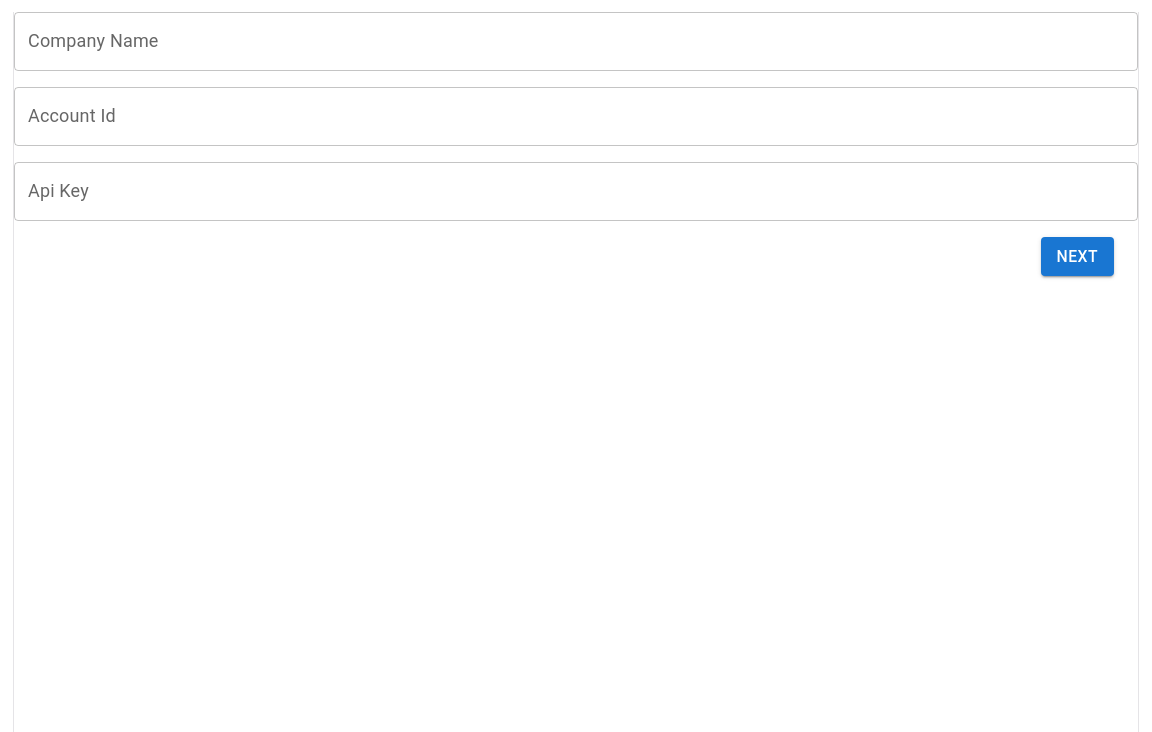
Test: DetailsStep › shows an error toast and does not advance when Next is clicked with empty fields
Click the button "Next".
click(1077, 256)  # box [1041,237,1114,276]
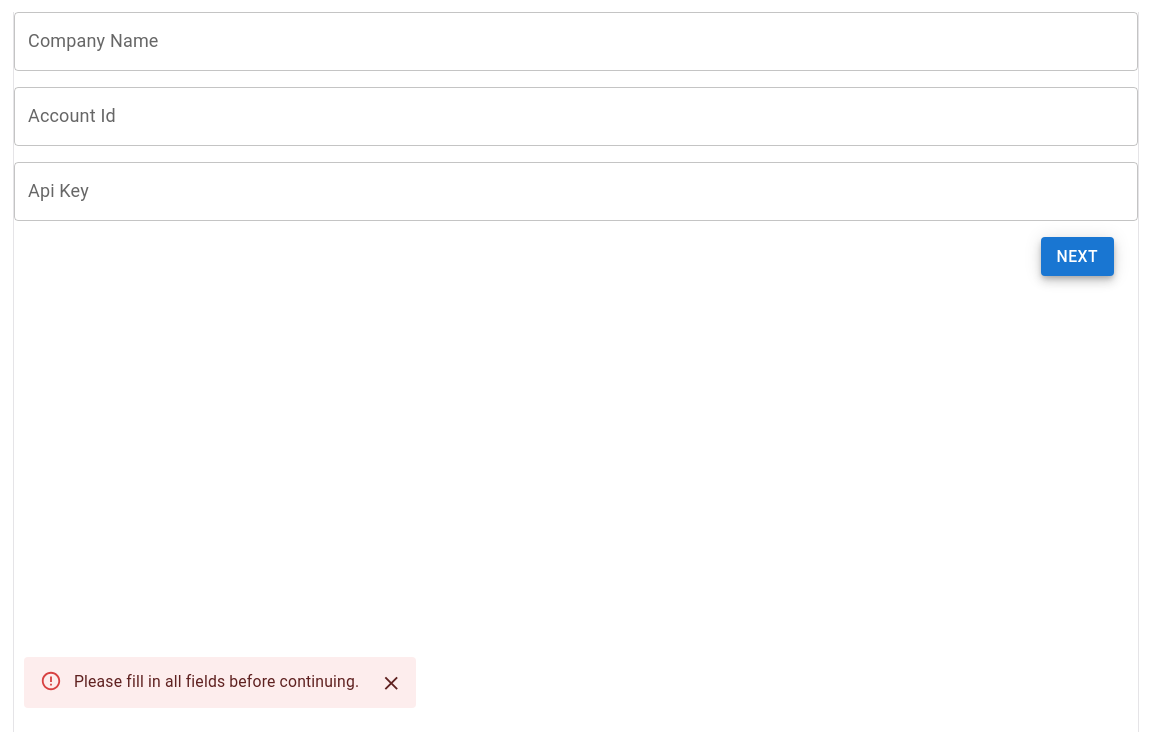
Expected: the message with test id "toast-alert" reads "Please fill in all fields before continuing.", [74,672,359,692]
